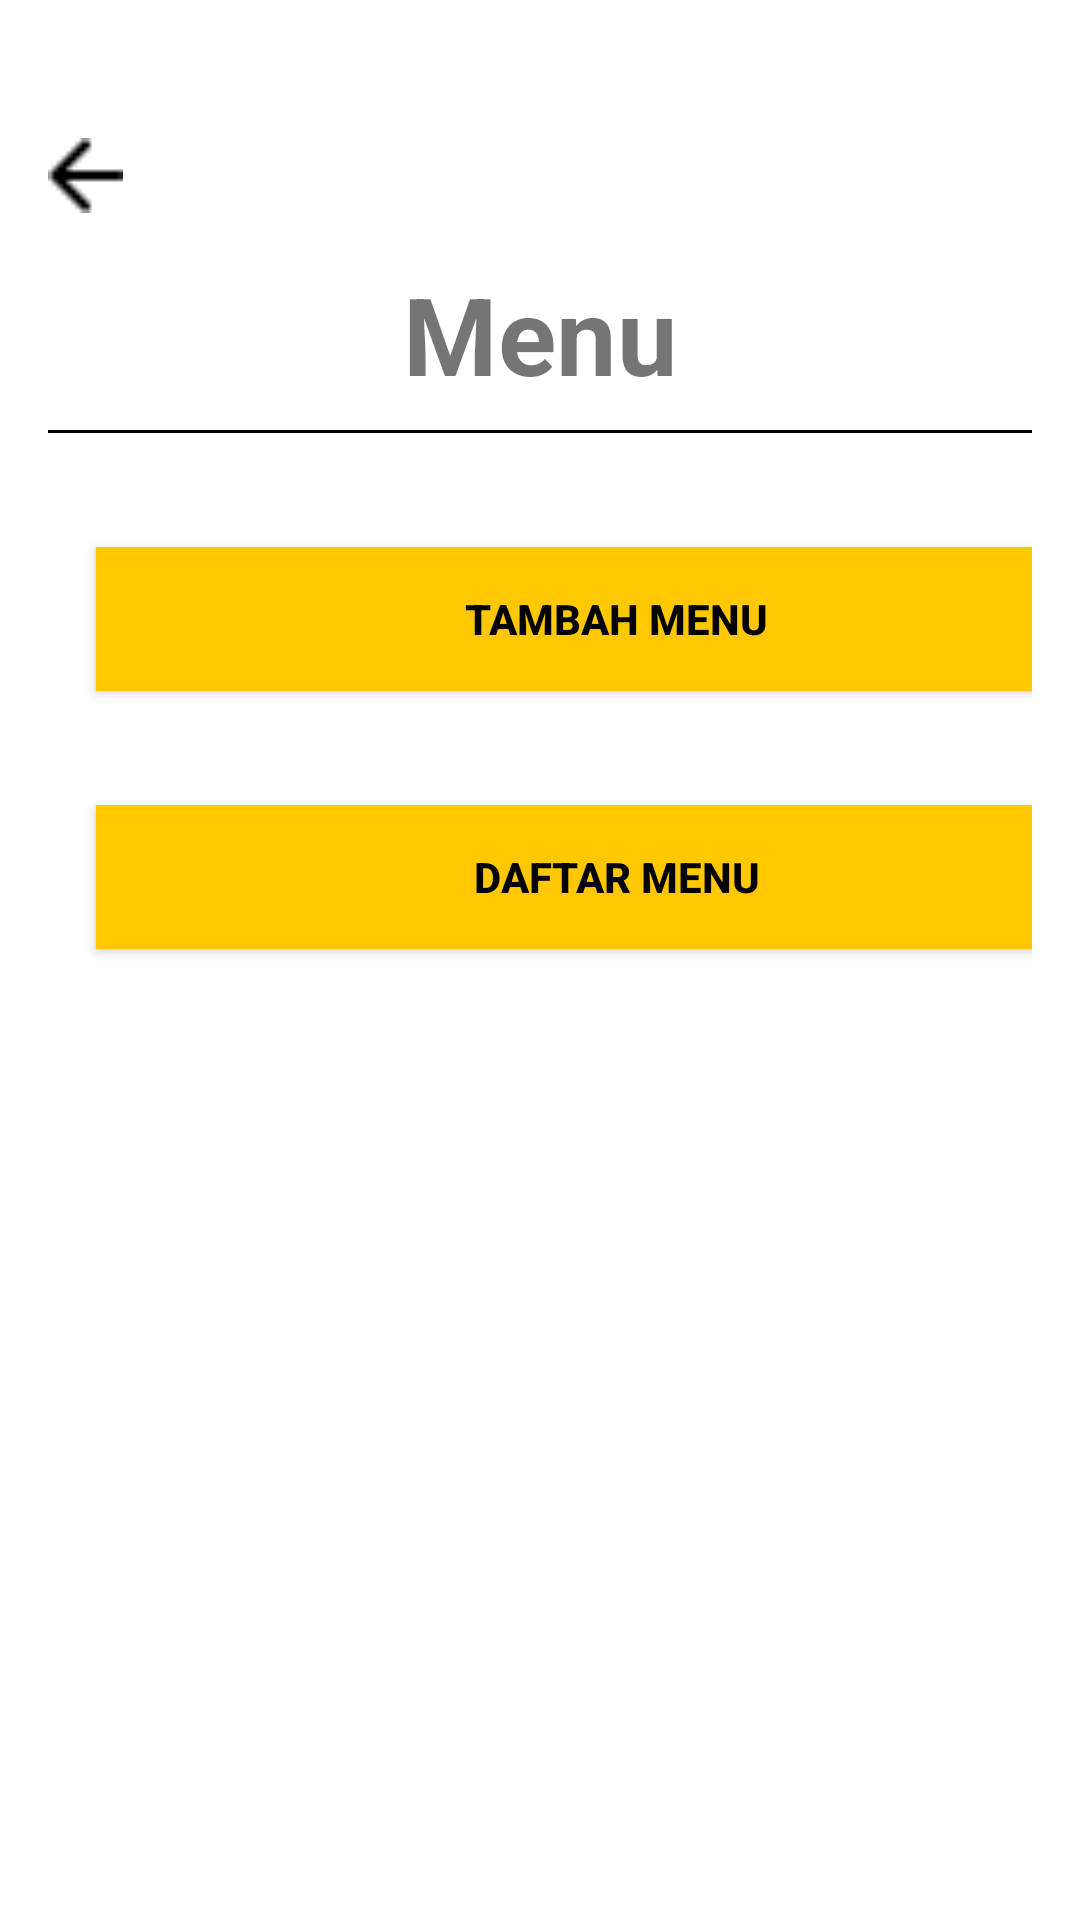

Locate icon controls on the screen. Image size 1080x1920, boxes as BBox(x1, y1, x2, y2).
back: BBox(48, 138, 123, 213)
